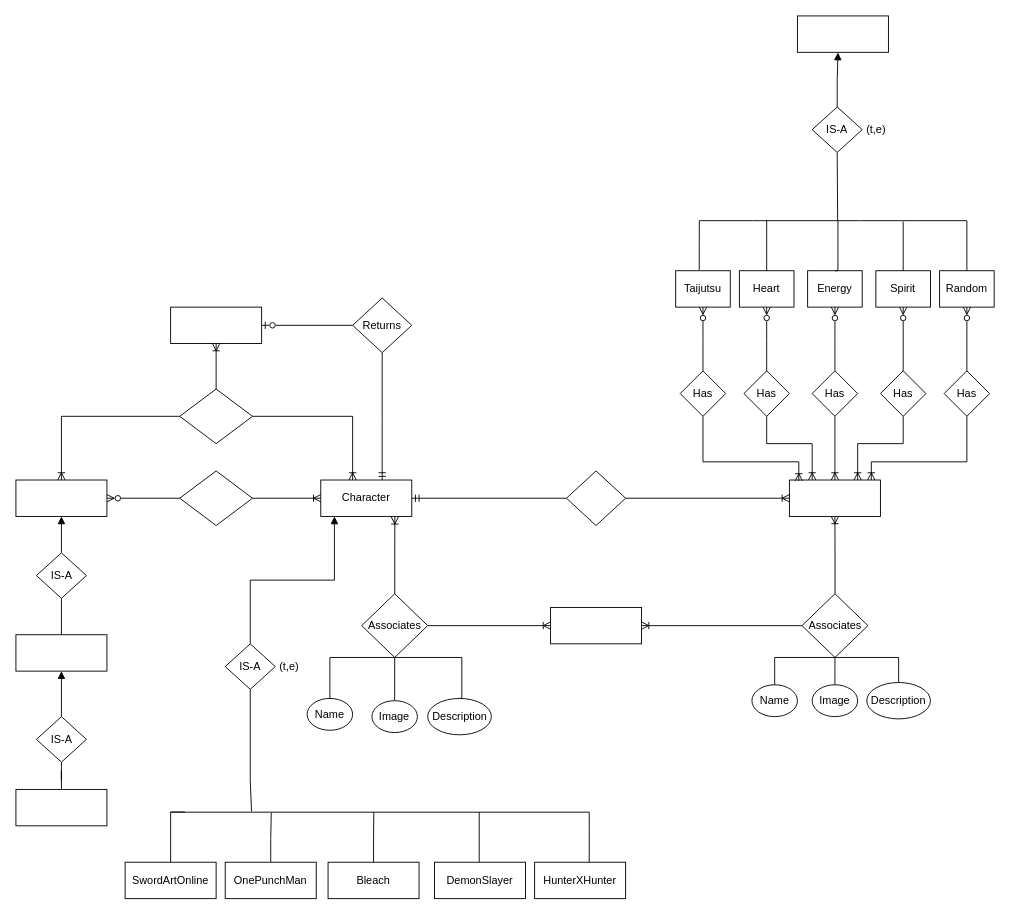
Image size: 1010x915. Some labels were removed from this diagram. The centre of each missing label's shape, as x and y in pixels:
"Ability" belongs at [834,497].
"Accomplish" belongs at [216,416].
"Administrator" belongs at [61,807].
"Mission" belongs at [216,325].
"Nature" belongs at [842,33].
"Owns" belongs at [216,498].
"Player" belongs at [61,652].
"Possess" belongs at [596,498].
"Theme" belongs at [596,625].
"User" belongs at [61,497].
